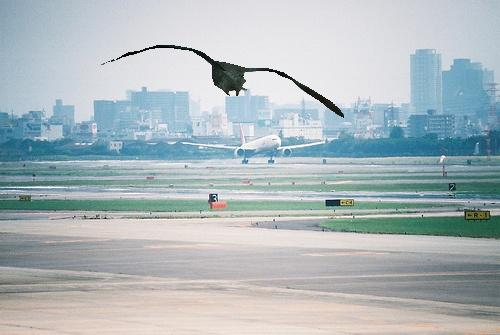tampered: (102, 46, 344, 118)
